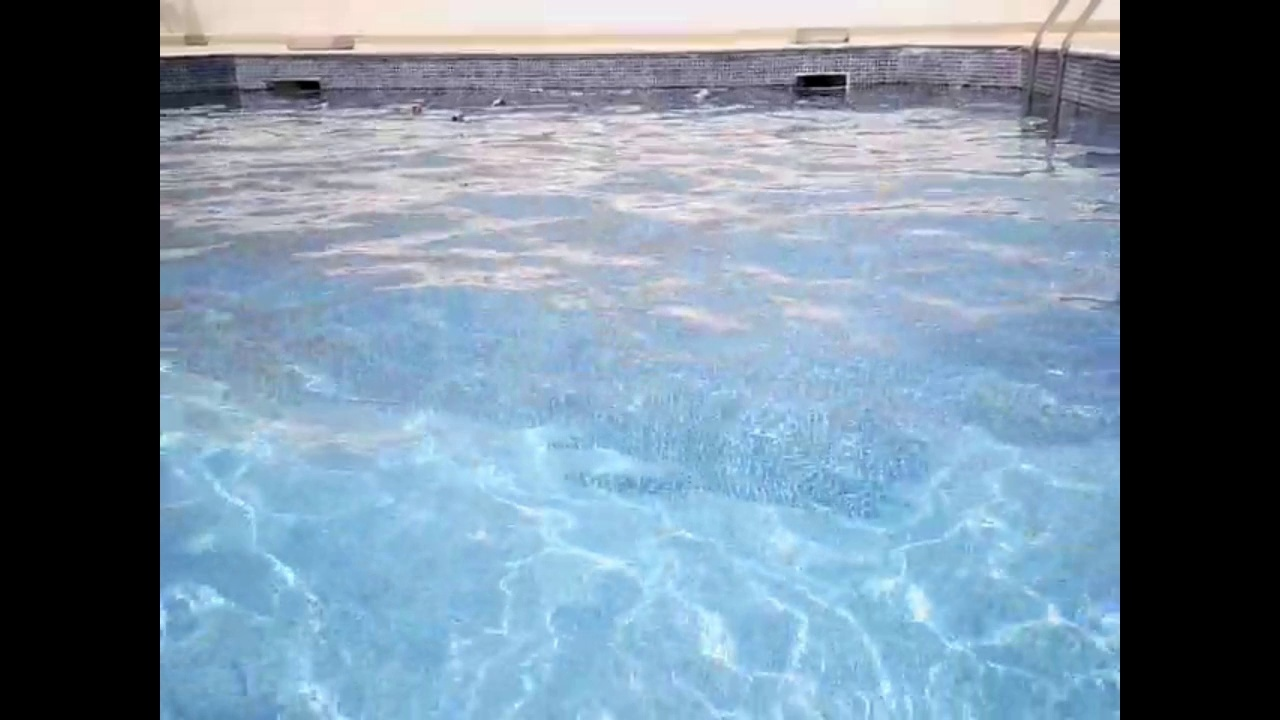debris: (686, 83, 714, 107), (404, 93, 430, 117), (486, 91, 512, 111), (311, 91, 331, 109), (450, 106, 468, 123)
